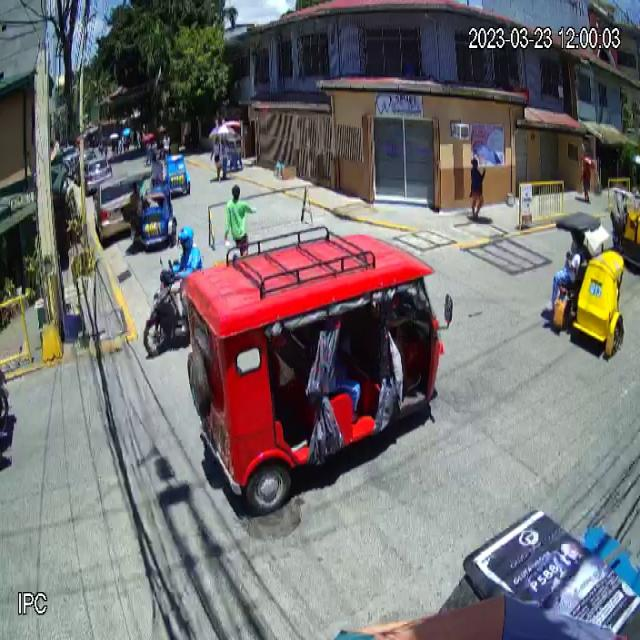Tricycle: (551, 211, 627, 360)
